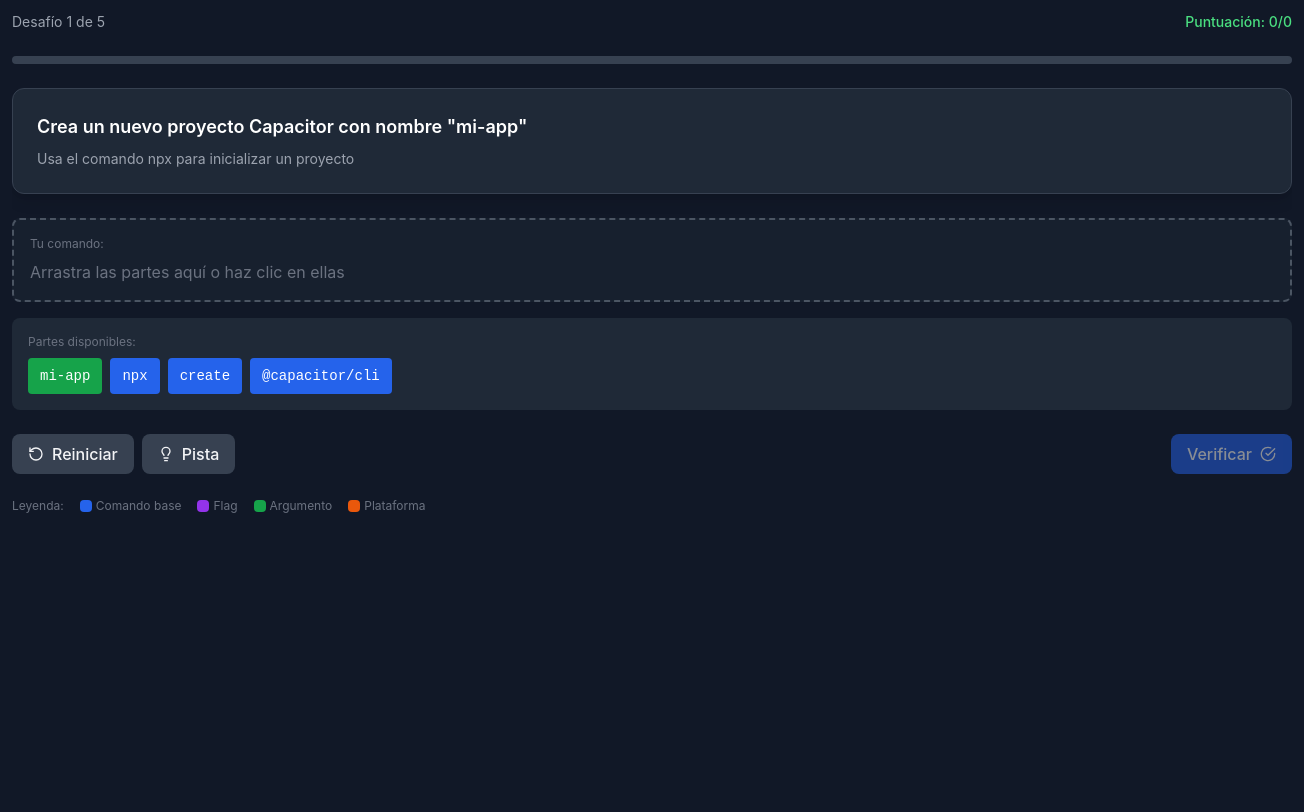
Test: CommandBuilder › interaction › should disable hint button after showing hint
Click the button "Pista" at (189, 454), box x1=142 y1=434 x2=235 y2=474
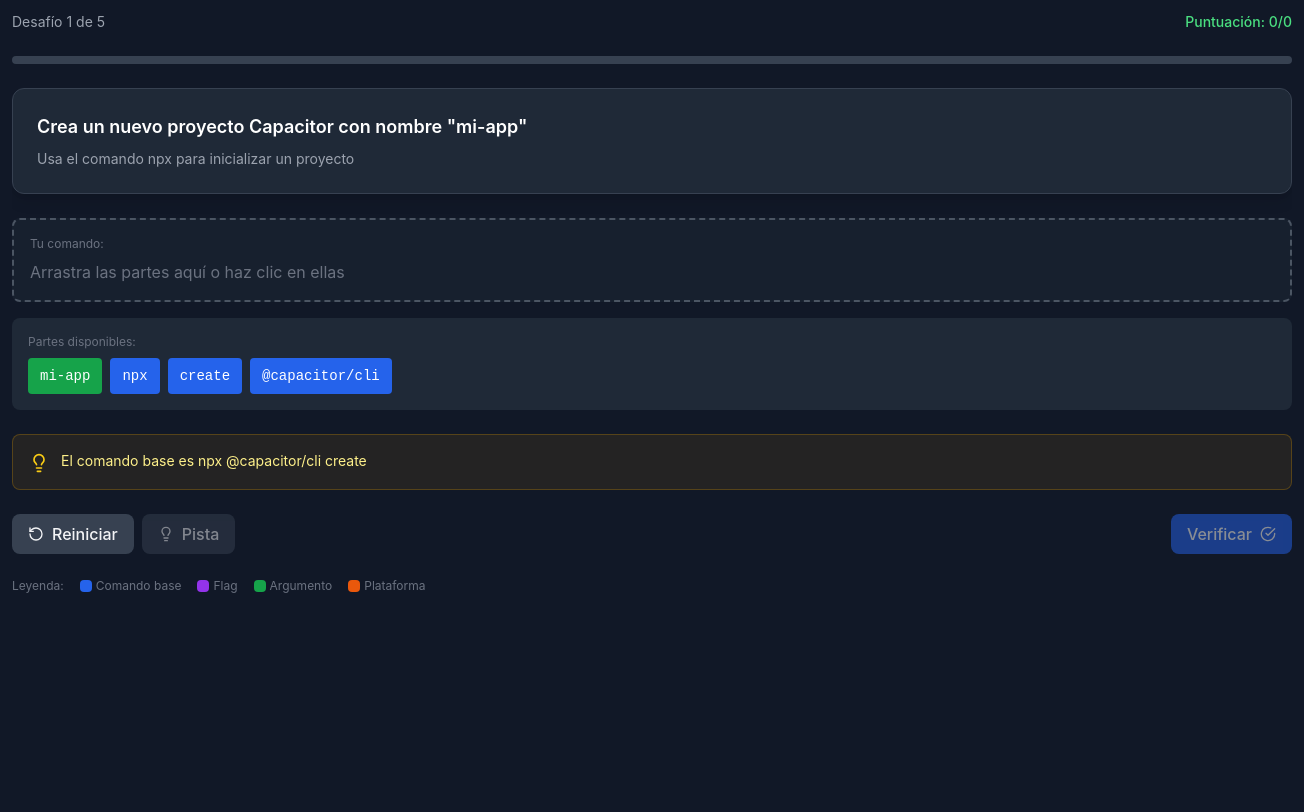
Expected: the button "Pista" is disabled, x1=142 y1=514 x2=235 y2=554
